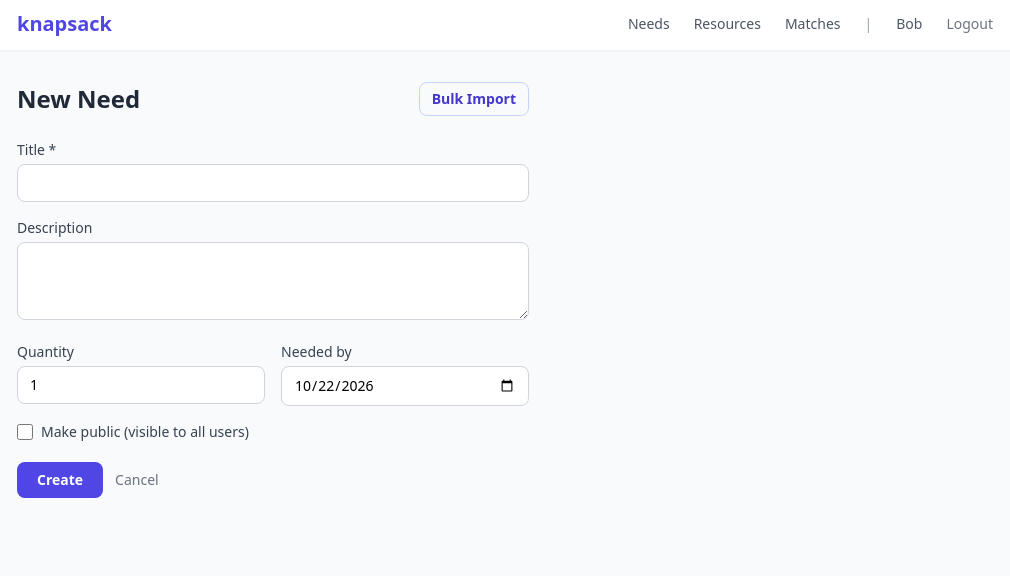
Test: NewNeedPage › shows validation error when title is empty
What coordinates should you click on to do the following:
click the button "Create"
I would click on:
 (60, 480)
Its box is x1=17 y1=462 x2=103 y2=498.
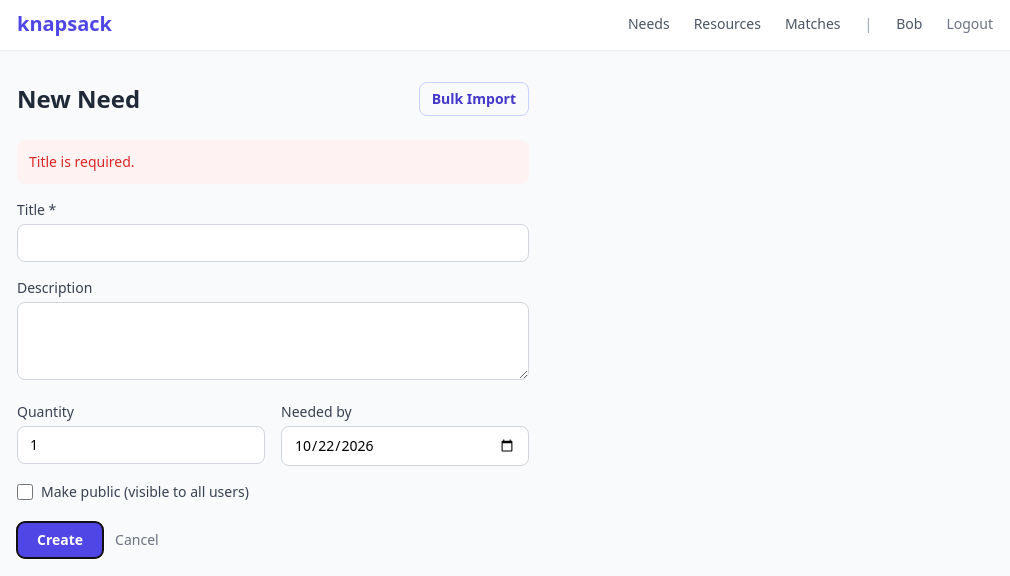
Result: the text "Title is required." is shown at x1=17 y1=140 x2=529 y2=184
